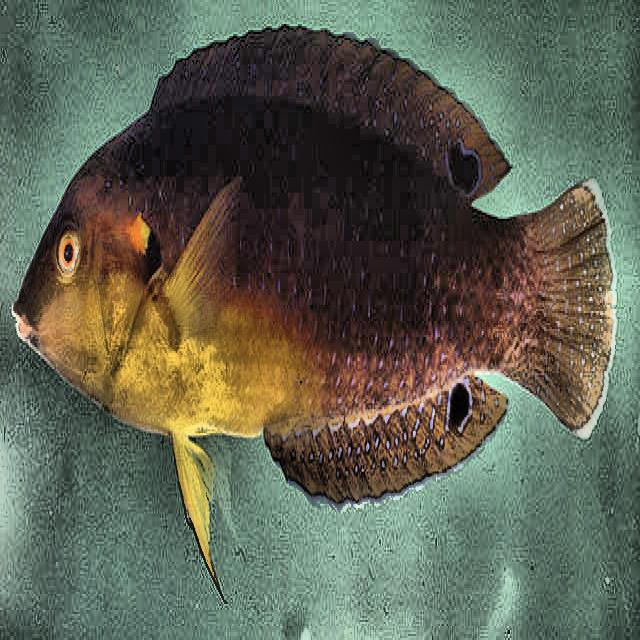fish: (9, 22, 619, 608)
